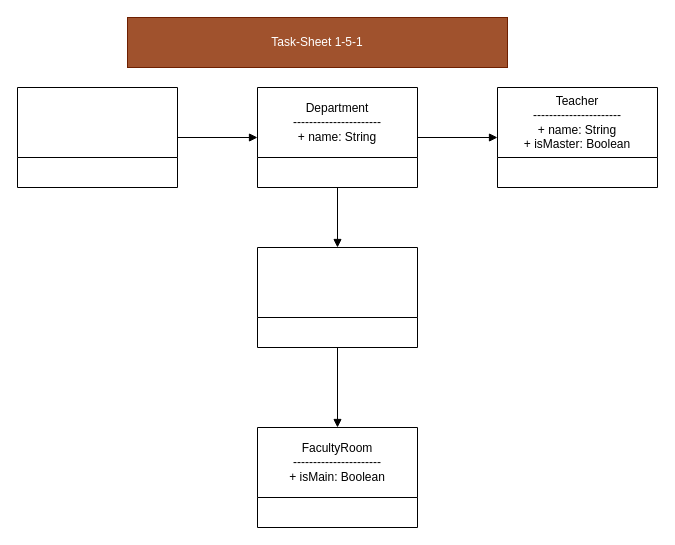
The diagram is 675 pixels wide and 545 high, and some of its shapes have lost their labels. Here are the shapes that lost their labels. From the top down, the centre of each, then its label:
pixel 97 137: School ---------------------- + name: String + location: String
pixel 337 297: Office ---------------------- + roomNumber: String
